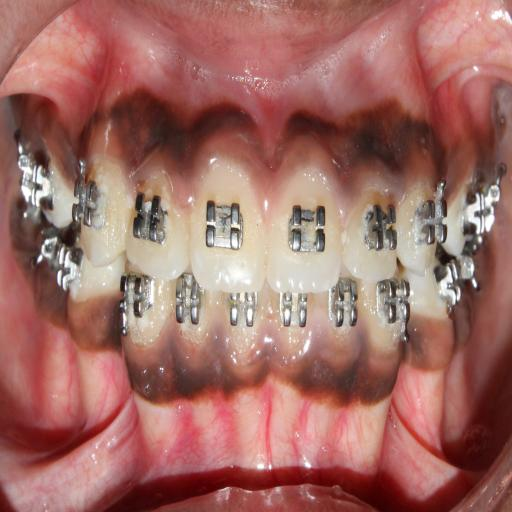correct_brace: (284, 197, 330, 258), (202, 192, 244, 254), (129, 194, 170, 253), (361, 198, 400, 253), (413, 188, 448, 248), (71, 174, 105, 235)
incorrect_brace: (128, 166, 188, 281), (343, 179, 400, 285)
